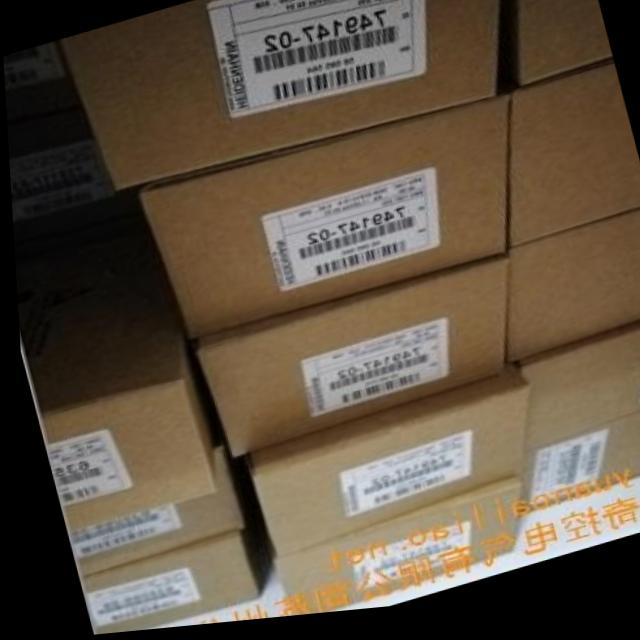box: (134, 104, 508, 342), (62, 0, 500, 196), (11, 195, 212, 534), (189, 259, 501, 463), (235, 375, 523, 562), (271, 476, 518, 621), (504, 74, 640, 259), (63, 441, 241, 580), (500, 220, 640, 373), (500, 331, 640, 463), (77, 539, 251, 635), (516, 420, 640, 526), (6, 102, 106, 226), (500, 0, 612, 97), (3, 43, 75, 122)
